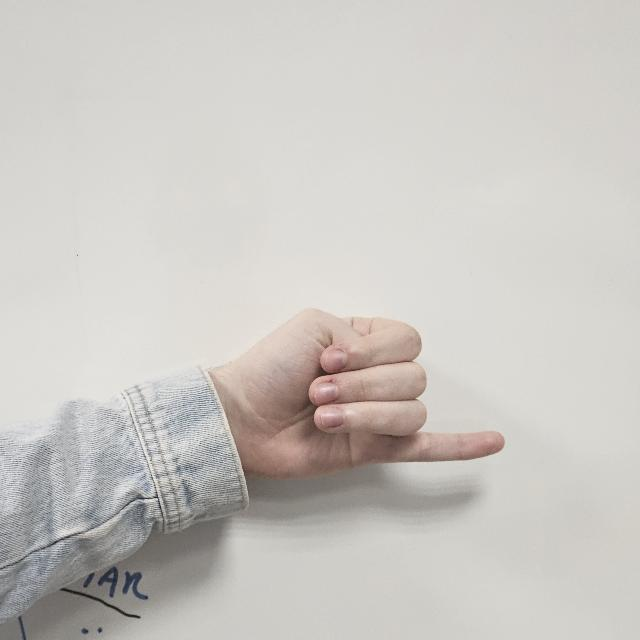Esquerda: (200, 284, 534, 492)
